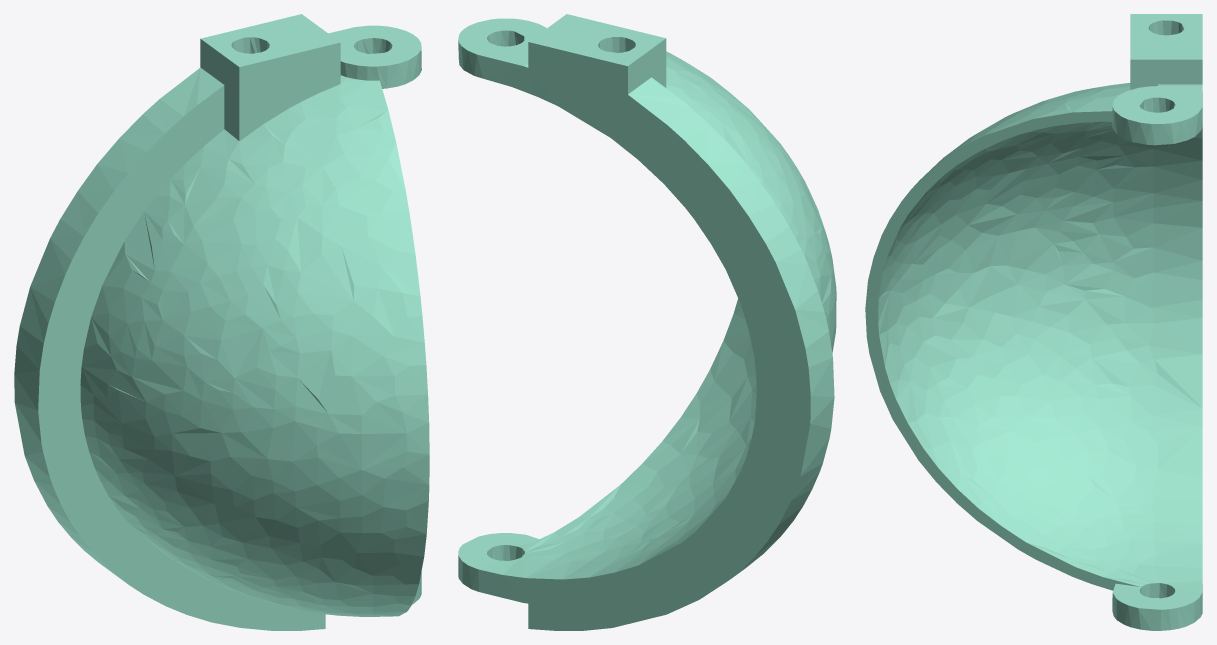
The model's file is i02_head_left_top_eyelid_visual.obj.balanced.glb.
3 views of the same model, side by side, from view 1: azimuth 30°, elevation 25°; view 2: azimuth 150°, elevation 25°; view 3: azimuth 270°, elevation 25° (orthographic). The views are drawn at different scales.
Size of the model in its own units: 0.2107 by 0.3191 by 0.1761.
